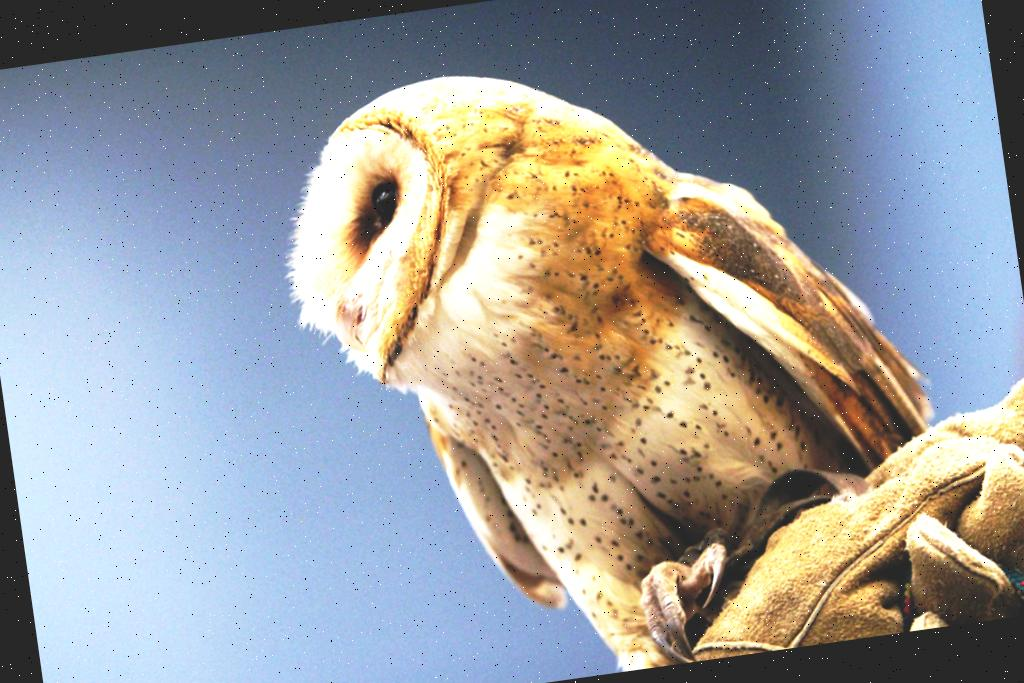Owl: (266, 10, 974, 683)
